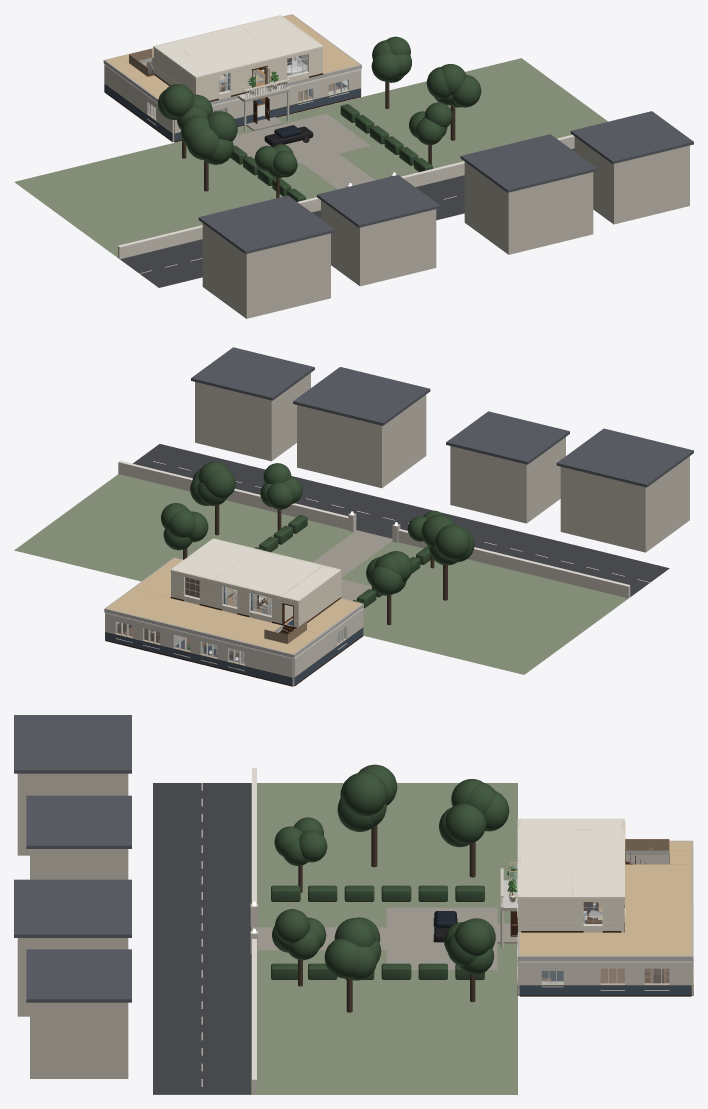
The model's file is hades-house.glb.
3 renders of one model, top to bottom at view 1: azimuth 30°, elevation 25°; view 2: azimuth 150°, elevation 25°; view 3: azimuth 270°, elevation 25°, orthographic. The views are drawn at different scales.
Parts seen in each view (by area): view 1: Z07_lawn, box.403, box.407, box.405, box.409, plane, box.408, box.404, Z07_street, box.406, box.410, Z07_forecourt (+20 smaller); view 2: Z07_lawn, Z07_street, box.403, box.407, box.405, box.409, box.404, box.408, plane, TBD_2F_north.001, box.406, box.410 (+19 smaller); view 3: Z07_lawn, Z07_street, box.409, plane, box.404, box.408, TBD_2F_north.001, box.406, box.410, F2_slab_E, Z07_forecourt, box.403 (+24 smaller).
Part boxes in pixels (bbox=[...]): Z07_lawn: bbox=[14, 58, 607, 259]; box.403: bbox=[202, 223, 330, 318]; box.407: bbox=[464, 162, 593, 254]; box.405: bbox=[321, 200, 436, 286]; box.409: bbox=[574, 137, 689, 224]; plane: bbox=[170, 15, 322, 72]; box.408: bbox=[460, 134, 597, 192]; box.404: bbox=[198, 195, 334, 253]; Z07_street: bbox=[120, 148, 574, 287]; box.406: bbox=[317, 175, 440, 227]; box.410: bbox=[570, 111, 693, 163]; Z07_forecourt: bbox=[232, 113, 370, 163]; Z07_lawn: bbox=[14, 474, 628, 674]; Z07_street: bbox=[133, 444, 669, 596]; box.403: bbox=[560, 456, 689, 552]; box.407: bbox=[297, 395, 426, 488]; box.405: bbox=[450, 437, 565, 523]; box.409: bbox=[195, 373, 310, 461]; box.404: bbox=[556, 428, 693, 487]; box.408: bbox=[293, 367, 430, 425]; plane: bbox=[173, 538, 320, 594]; TBD_2F_north.001: bbox=[106, 588, 281, 644]; box.406: bbox=[446, 411, 569, 464]; box.410: bbox=[191, 347, 314, 400]; Z07_lawn: bbox=[153, 783, 517, 1094]; Z07_street: bbox=[153, 783, 251, 1094]; box.409: bbox=[30, 1002, 128, 1078]; plane: bbox=[518, 829, 624, 896]; box.404: bbox=[14, 715, 131, 773]; box.408: bbox=[14, 879, 131, 937]; TBD_2F_north.001: bbox=[623, 864, 691, 955]; box.406: bbox=[26, 795, 131, 848]; box.410: bbox=[26, 949, 131, 1002]; F2_slab_E: bbox=[621, 865, 668, 960]; Z07_forecourt: bbox=[386, 907, 497, 969]; box.403: bbox=[17, 773, 128, 855].
Bounding box in the file's own units: 60 × 8.84 × 55.3.
111 materials, 5 textured.
